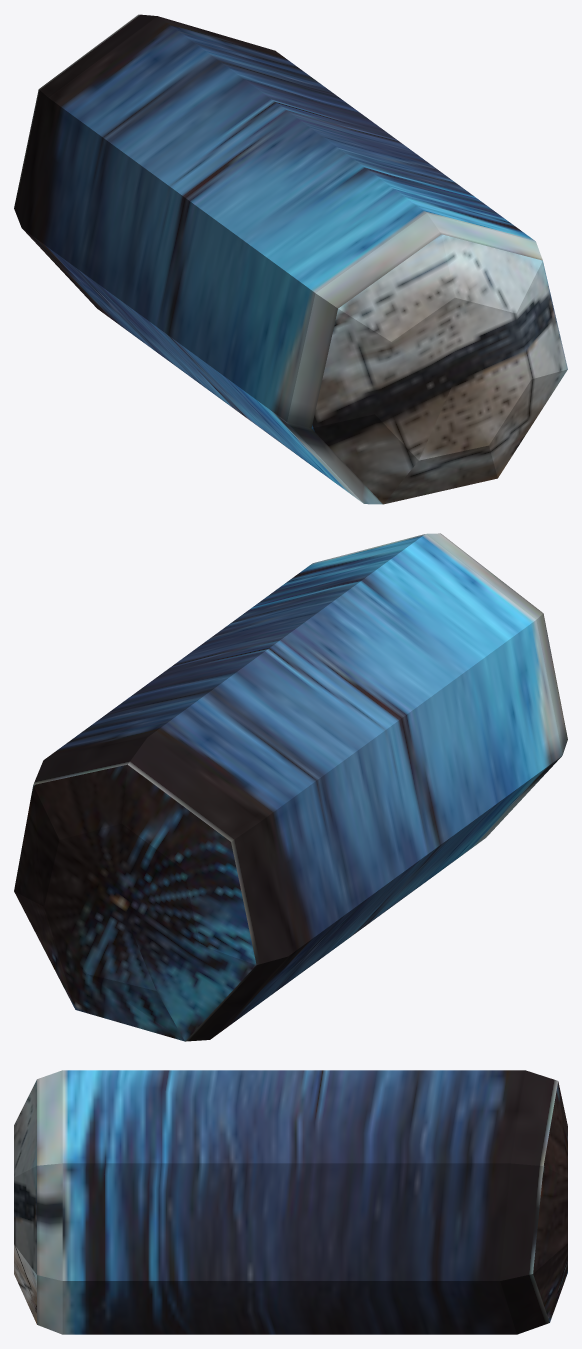
File: SleepingBag02.obj
The picture shows the model from 3 angles, top to bottom: view 1: azimuth 30°, elevation 25°; view 2: azimuth 150°, elevation 25°; view 3: azimuth 270°, elevation 25°; orthographic projection. The views are drawn at different scales.
Visible parts, largest first — view 1: SleepingBag02; view 2: SleepingBag02; view 3: SleepingBag02.
Boxes of the visible parts, box(x1,y1,x2,y2) form: SleepingBag02: box(14, 14, 567, 504); SleepingBag02: box(14, 533, 567, 1041); SleepingBag02: box(14, 1070, 567, 1334).
Bounding box in the file's own units: 0.6855 × 0.6683 × 1.4.
